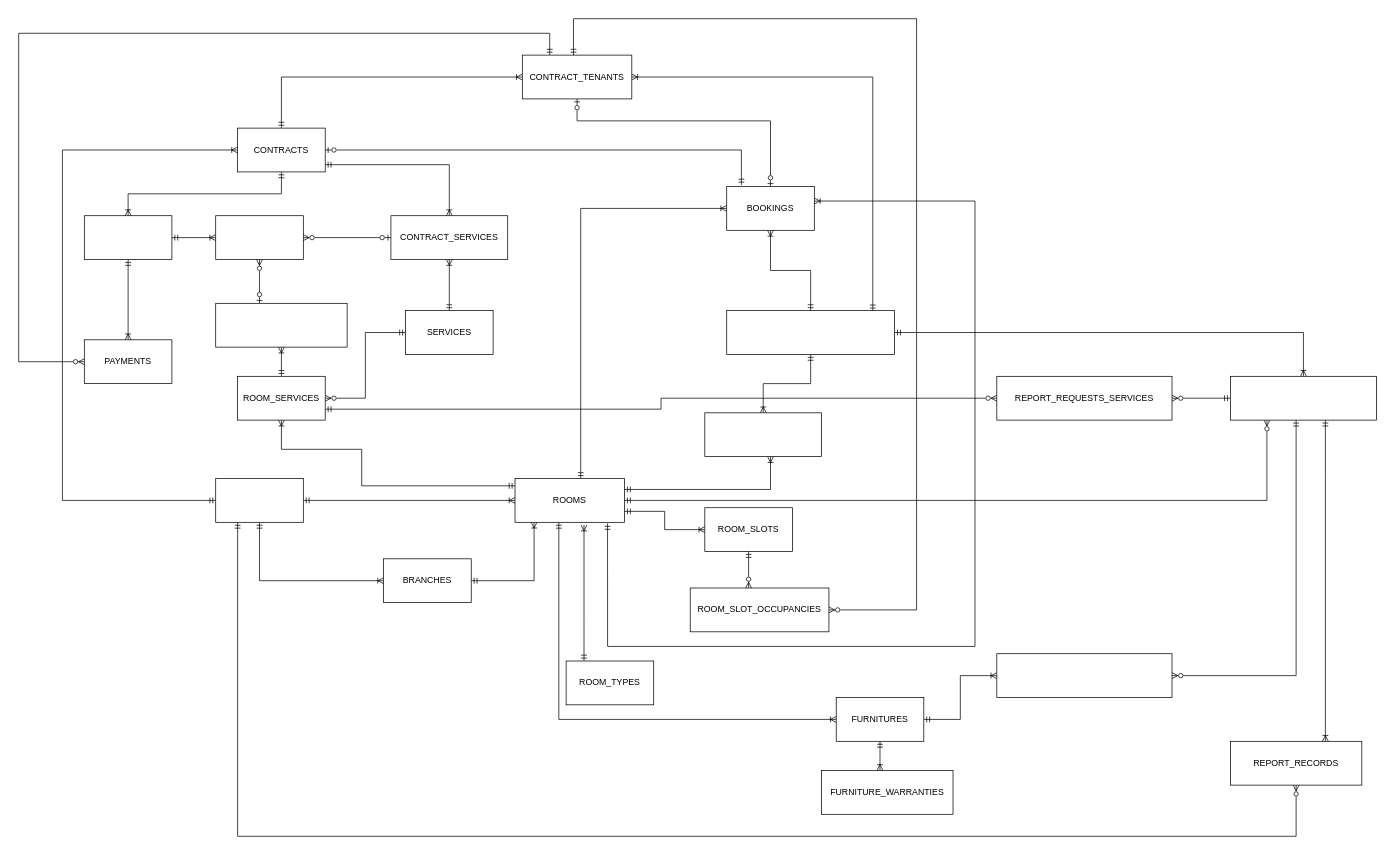
Image size: 1389x856. Some labels were removed from this diagram. The box of each missing label's shape, as (x1, y1, x2, y2) in pixels:
APPOINTMENT: (704, 412, 822, 457)
INVOICE_ITEMS: (215, 215, 303, 260)
INVOICES: (84, 215, 172, 260)
MANAGERS: (215, 478, 303, 522)
REPORT_REQUESTS: (1230, 376, 1376, 420)
REPORT_REQUESTS_FURNITURES: (996, 653, 1172, 698)
ROOM_SERVICE_CHARGES: (215, 303, 347, 347)
TENANTS: (726, 310, 895, 354)
